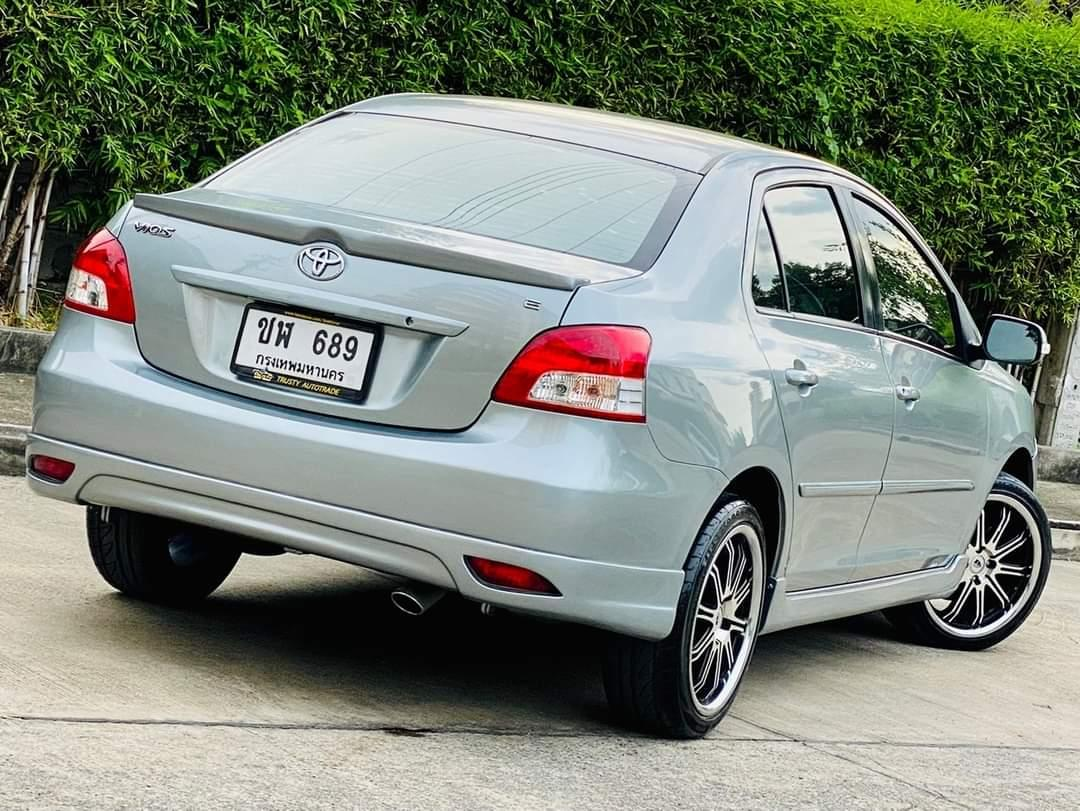license-plate: (229, 296, 387, 412)
